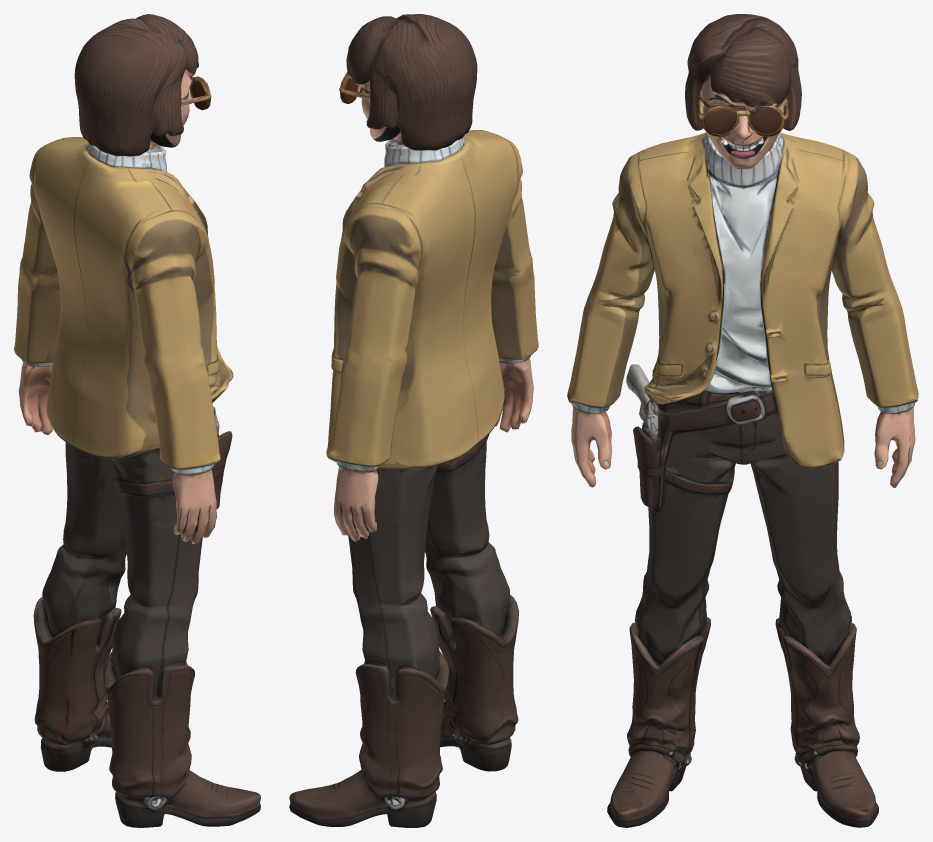
The model's file is johnny_modelo.glb.
3 views of the same model, side by side, from view 1: azimuth 30°, elevation 25°; view 2: azimuth 150°, elevation 25°; view 3: azimuth 270°, elevation 25° (orthographic). The views are drawn at different scales.
Visible parts, largest first — view 1: tripo_node_f27d49e0-d2d6-43f3-bbae-f4355303a5a5; view 2: tripo_node_f27d49e0-d2d6-43f3-bbae-f4355303a5a5; view 3: tripo_node_f27d49e0-d2d6-43f3-bbae-f4355303a5a5.
Boxes of the visible parts, x1,y1,x2,y2 form: tripo_node_f27d49e0-d2d6-43f3-bbae-f4355303a5a5: (14, 14, 260, 827); tripo_node_f27d49e0-d2d6-43f3-bbae-f4355303a5a5: (289, 14, 538, 827); tripo_node_f27d49e0-d2d6-43f3-bbae-f4355303a5a5: (567, 14, 918, 827).
Bounding box in the file's own units: 0.1782 × 1 × 0.4092.
Materials: 1 (1 with a texture image).
